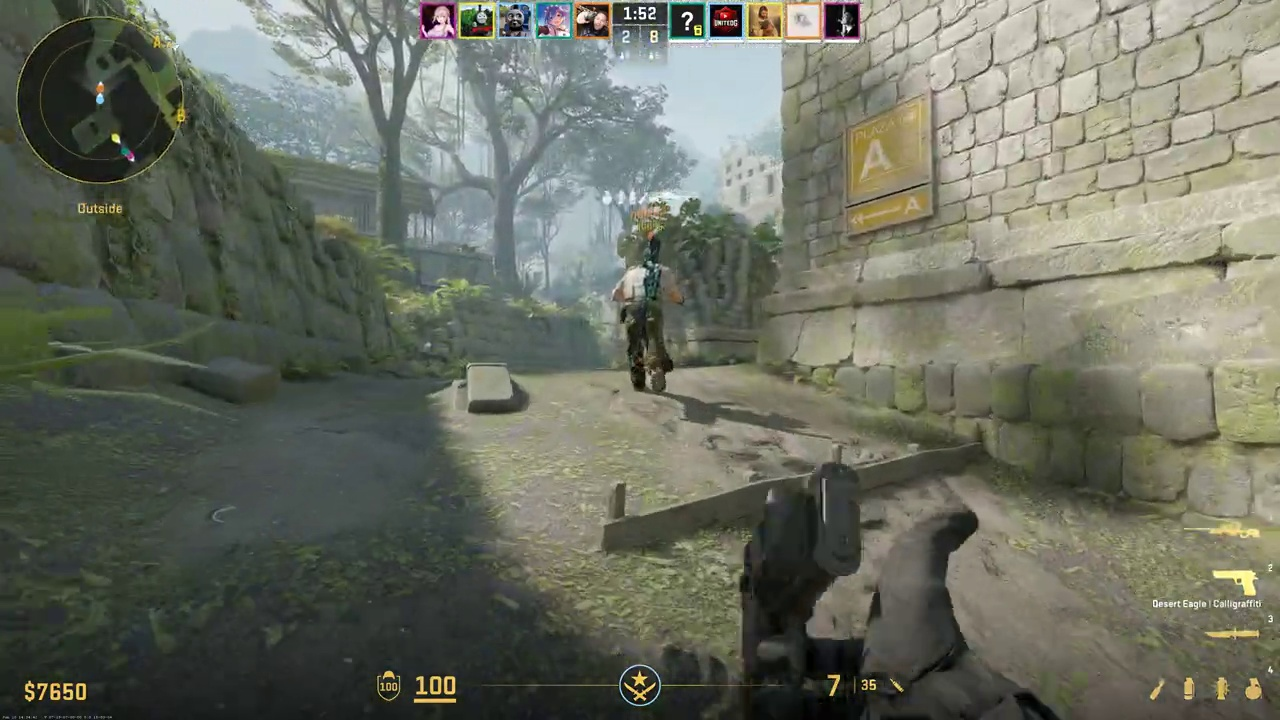Terrorist: (613, 255, 677, 394)
